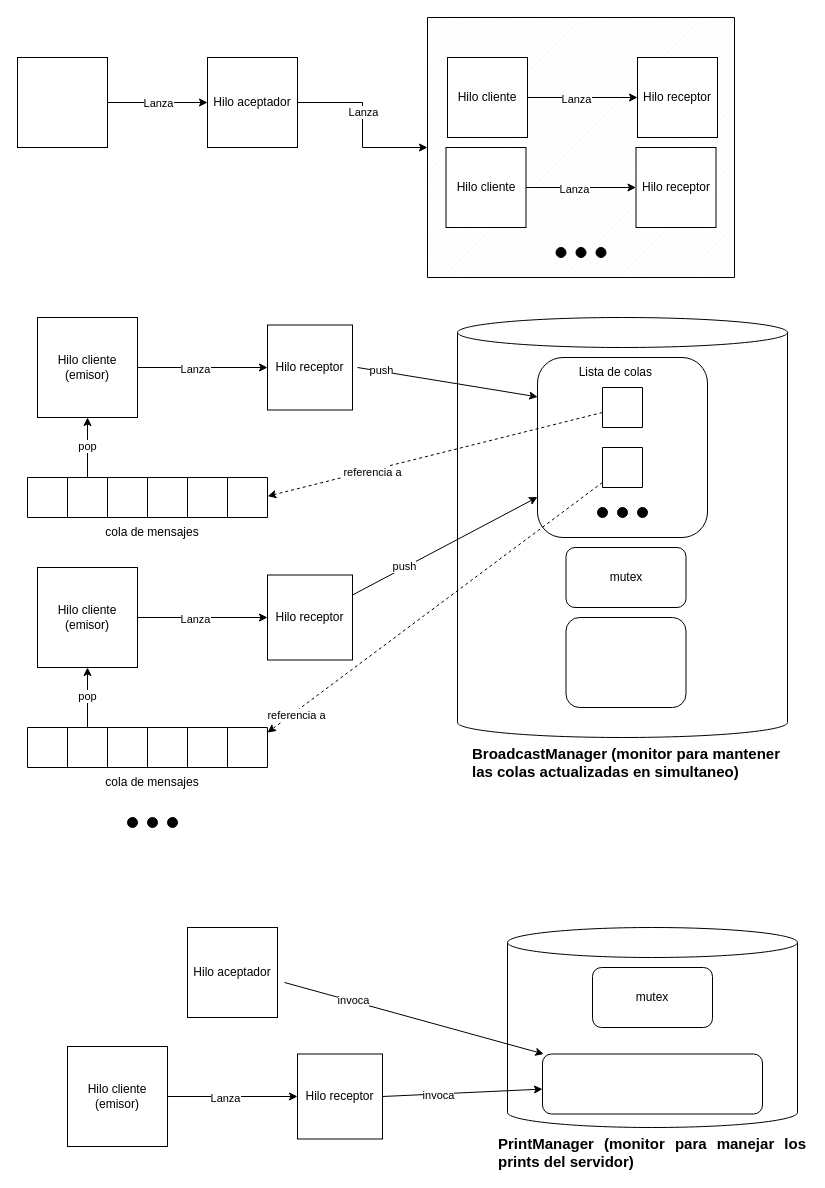
Some shapes in this 825 by 1188 pixel diagram are drawn without their labels. The centre of each missing label's shape, as x and y in pixels:
"Hilo principal" goes at point (62, 102).
"Metodos: agregar_mensaje agregar_cola eliminar_cola" goes at point (625, 662).
"Metodos: mostrar_mensaje_de_cliente (chat) monstrar_clientes_en_linea" goes at point (652, 1083).
